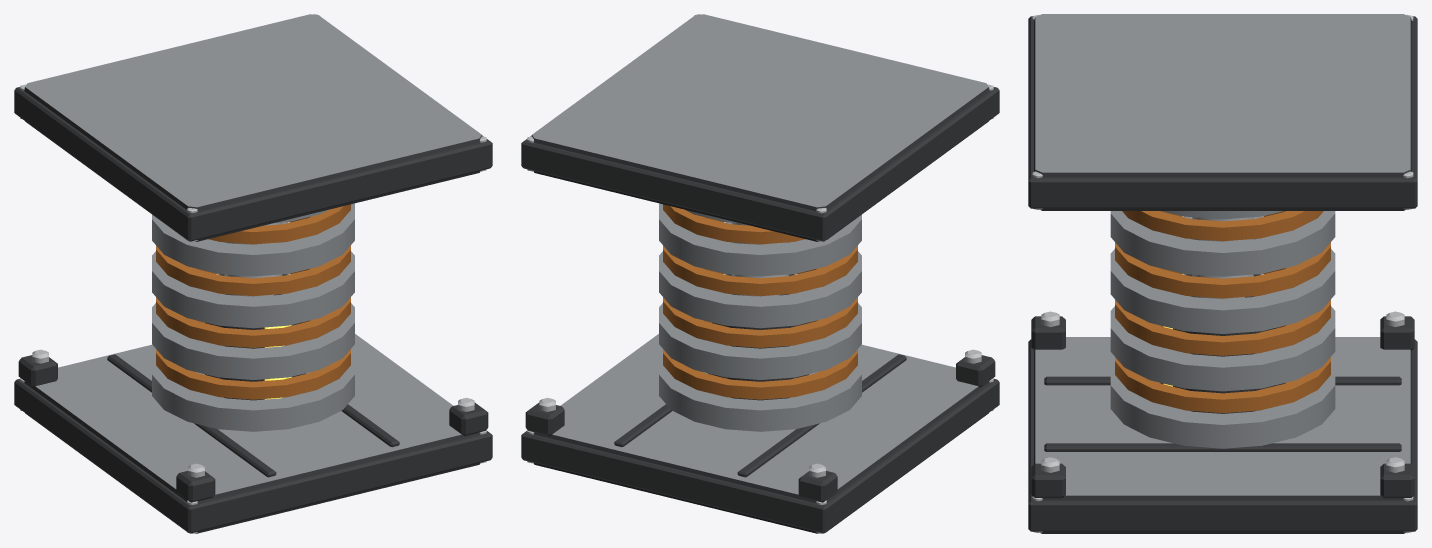
The model's file is R4X_Suspension.fbx.
The picture shows the model from 3 angles, left to right: view 1: azimuth 30°, elevation 25°; view 2: azimuth 150°, elevation 25°; view 3: azimuth 270°, elevation 25°; orthographic projection. The views are drawn at different scales.
Parts seen in each view (by area): view 1: R4X_Suspension_Body; view 2: R4X_Suspension_Body; view 3: R4X_Suspension_Body, R4X_Suspension_Piston.
Boxes of the visible parts, x1=… form: R4X_Suspension_Body: x1=14, y1=14, x2=492, y2=533; R4X_Suspension_Body: x1=521, y1=14, x2=999, y2=533; R4X_Suspension_Body: x1=1028, y1=14, x2=1417, y2=533; R4X_Suspension_Piston: x1=1192, y1=217, x2=1253, y2=299.
Size of the model in its own units: 0.508 by 0.52 by 0.508.
